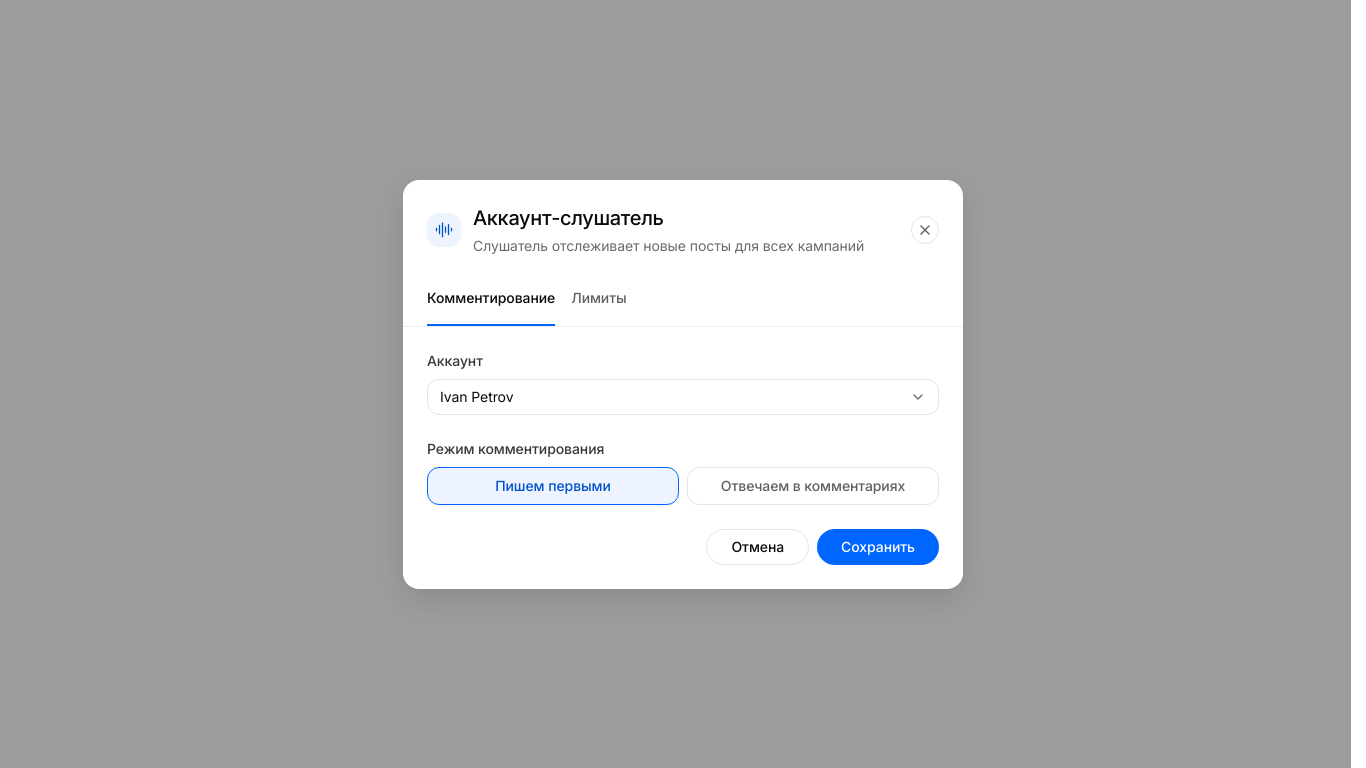
it: the limits tab shows the stored fleet limits
Click the tab "Лимиты" at coordinates (599, 298), box [571,272,626,326]
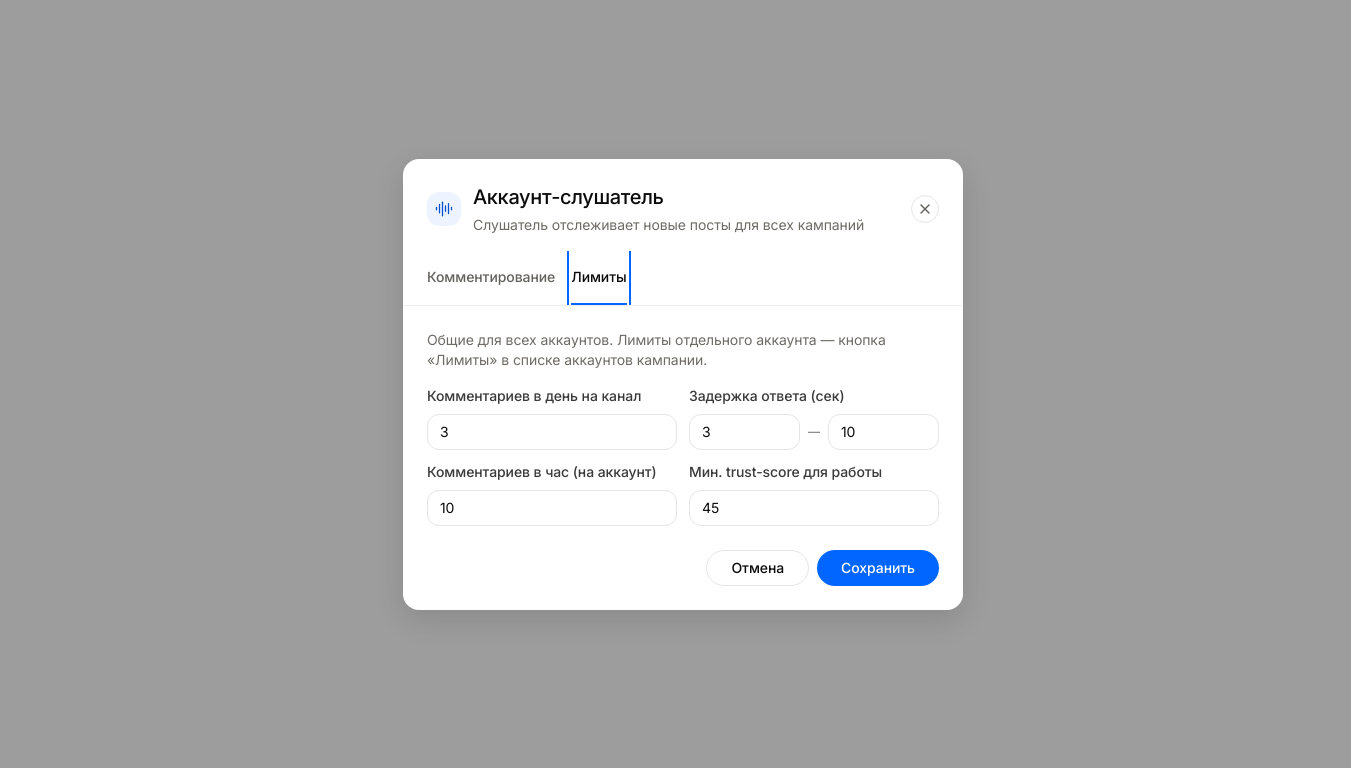
Expected: the field labelled "Мин. trust-score для работы" is enabled, [689,490,939,526]
Expected: the field labelled "Комментариев в день на канал" holds "3", [427,414,677,450]
Expected: the field named "Задержка ответа, от (сек)" holds "3", [689,414,800,450]
